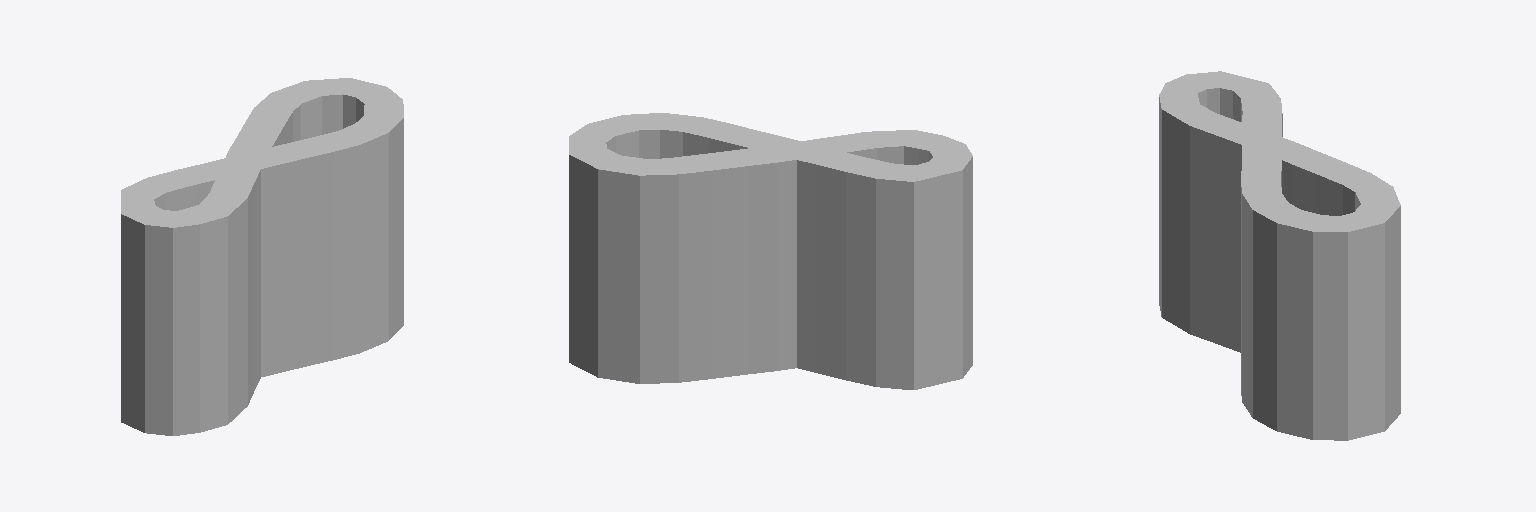
File: figure region.obj
3 renders of one model, left to right at view 1: azimuth 30°, elevation 25°; view 2: azimuth 150°, elevation 25°; view 3: azimuth 270°, elevation 25°, orthographic.
Parts seen in each view (by area): view 1: region_0, region_3, region_1, region_18, region_20, region_19, region_2, region_21, region_17, region_4, region_27, region_16 (+14 smaller); view 2: region_22, region_9, region_10, region_23, region_11, region_12, region_13, region_24, region_25, region_8, region_14, region_26 (+12 smaller); view 3: region_7, region_5, region_6, region_17, region_16, region_15, region_4, region_8, region_3, region_12, region_11, region_18 (+12 smaller).
Part boxes in pixels (left/top/right/bottom): region_0: left=250, top=144, right=305, bottom=374; region_3: left=340, top=123, right=388, bottom=352; region_1: left=287, top=137, right=333, bottom=366; region_18: left=186, top=205, right=227, bottom=432; region_20: left=145, top=210, right=176, bottom=435; region_19: left=173, top=209, right=199, bottom=435; region_2: left=315, top=130, right=359, bottom=359; region_21: left=121, top=206, right=162, bottom=432; region_17: left=199, top=194, right=247, bottom=423; region_4: left=356, top=115, right=403, bottom=339; region_27: left=230, top=153, right=269, bottom=376; region_16: left=209, top=180, right=253, bottom=404; region_22: left=914, top=162, right=962, bottom=389; region_9: left=598, top=155, right=646, bottom=383; region_10: left=640, top=158, right=678, bottom=383; region_23: left=876, top=164, right=916, bottom=389; region_11: left=668, top=154, right=712, bottom=382; region_12: left=702, top=150, right=745, bottom=378; region_13: left=735, top=148, right=776, bottom=374; region_24: left=846, top=158, right=895, bottom=386; region_25: left=817, top=153, right=866, bottom=379; region_8: left=569, top=149, right=619, bottom=377; region_14: left=771, top=141, right=814, bottom=370; region_26: left=793, top=155, right=830, bottom=372; region_7: left=1342, top=212, right=1384, bottom=440; region_5: left=1277, top=210, right=1323, bottom=439; region_6: left=1313, top=215, right=1347, bottom=440; region_17: left=1162, top=105, right=1216, bottom=333; region_16: left=1190, top=114, right=1241, bottom=342; region_15: left=1215, top=123, right=1250, bottom=351; region_4: left=1253, top=203, right=1300, bottom=430; region_8: left=1355, top=204, right=1400, bottom=430; region_3: left=1242, top=193, right=1288, bottom=417; region_12: left=1293, top=153, right=1344, bottom=213; region_11: left=1318, top=162, right=1369, bottom=215; region_18: left=1159, top=95, right=1199, bottom=316.
Bounding box in the file's own units: 424 × 256 × 269.